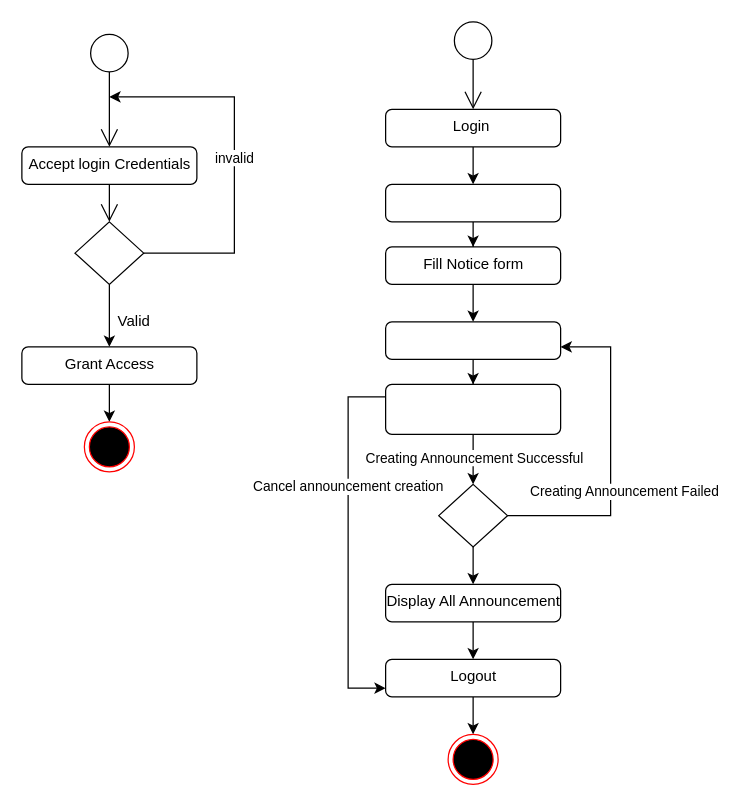
Some shapes in this 740 by 806 pixel diagram are drawn without their labels. The centre of each missing label's shape, as x and y in pixels:
Click on Announcement: point 472,202
Save to Table: point 472,408
Submit form: point 472,340
